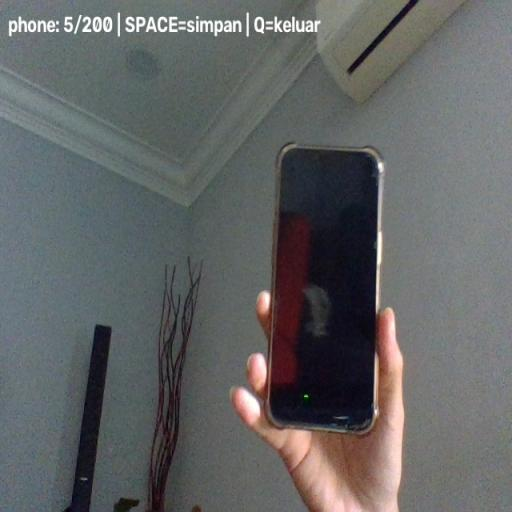Phone: (264, 141, 386, 438)
